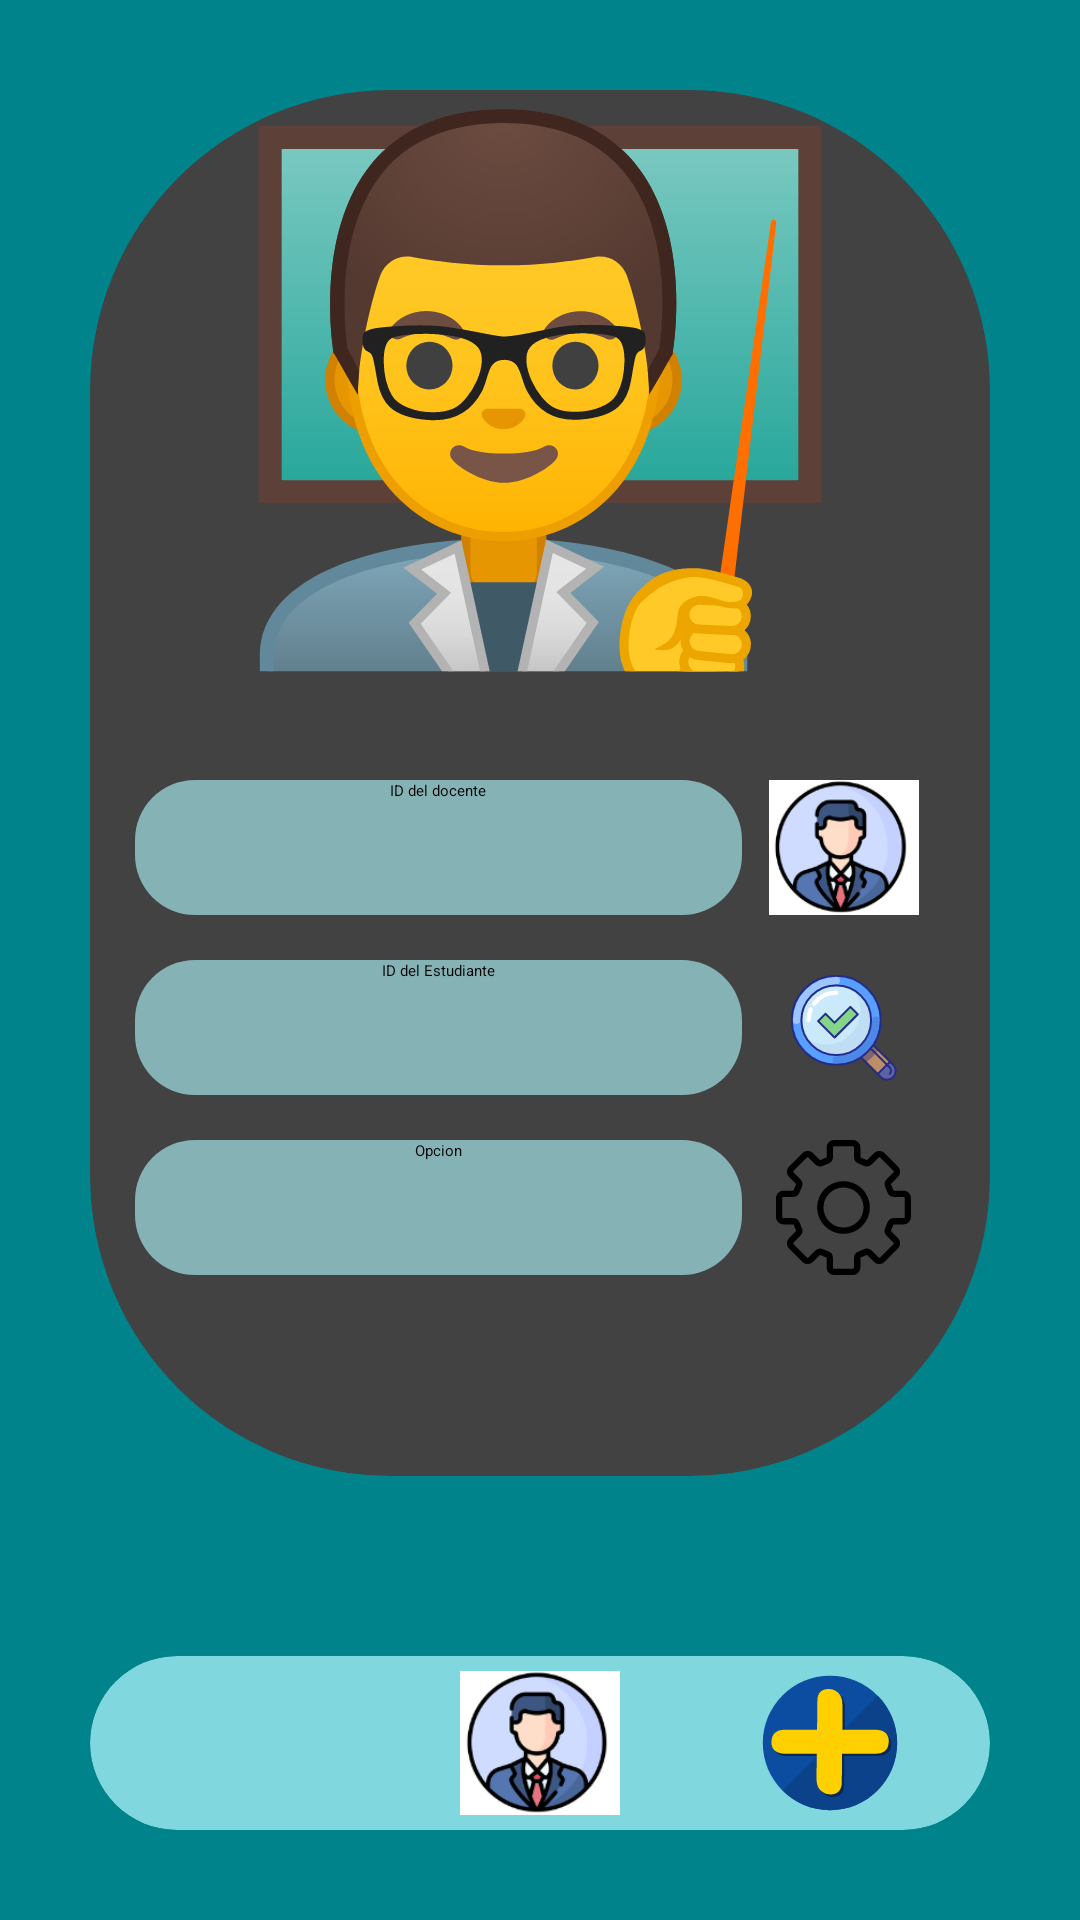

Icon bounding boxes for this 1080x1920 phone screenshot, format {"x1": x1, "y1": y1, "x2": x2, "y2": y2}:
adulto: {"x1": 769, "y1": 780, "x2": 919, "y2": 915}, {"x1": 460, "y1": 1671, "x2": 620, "y2": 1815}
conf: {"x1": 776, "y1": 1140, "x2": 911, "y2": 1275}
lupa: {"x1": 791, "y1": 975, "x2": 897, "y2": 1081}
mas: {"x1": 762, "y1": 1675, "x2": 898, "y2": 1811}
